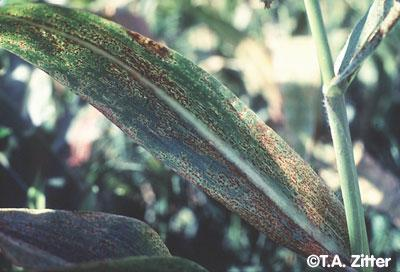Corn rust leaf: (1, 1, 346, 254)
